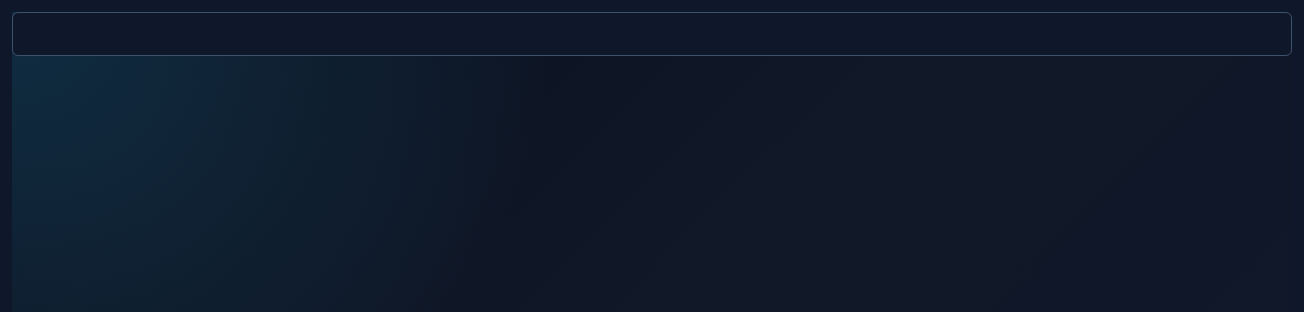
it: visual UX helpers › keeps number drafts empty through server patches and commits once on blur or Enter
Earlier steps of the test are not shown.
In the number field named "Vitae": (652, 34) [12,12,1292,56], type "47"
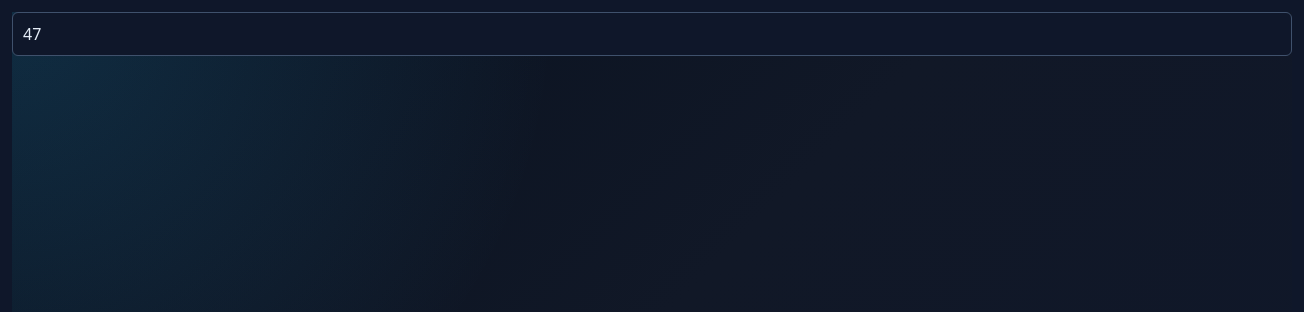
Press Enter in the number field named "Vitae", box [12,12,1292,56]
Leave the number field named "Vitae", box [12,12,1292,56]
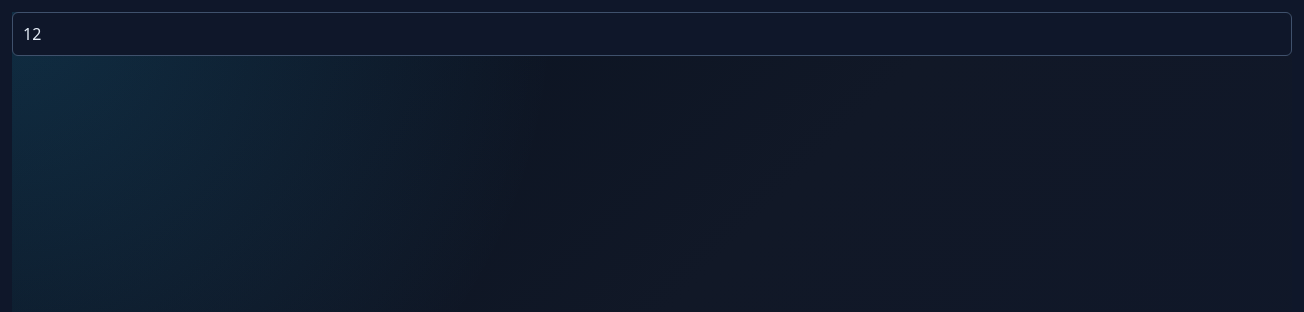
Clear the number field named "Vitae": (652, 34) [12,12,1292,56]
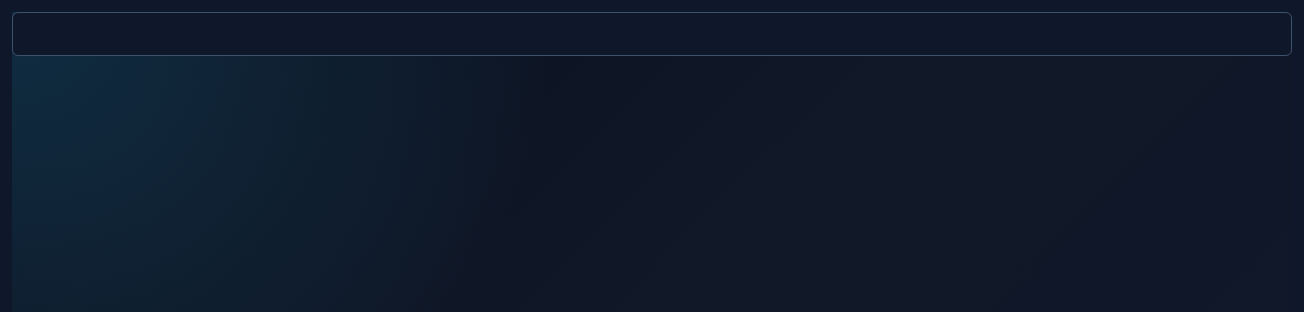
Leave the number field named "Vitae", box [12,12,1292,56]
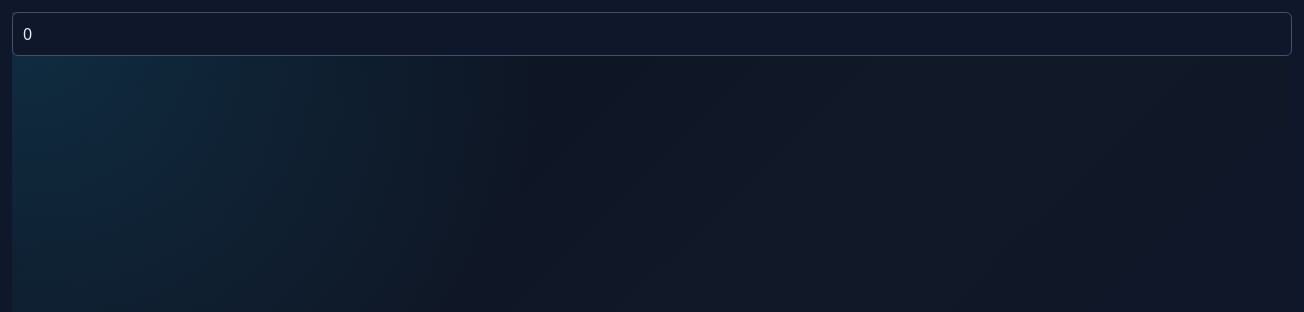
expect the number field named "Vitae" holds "0": met, box [12,12,1292,56]
